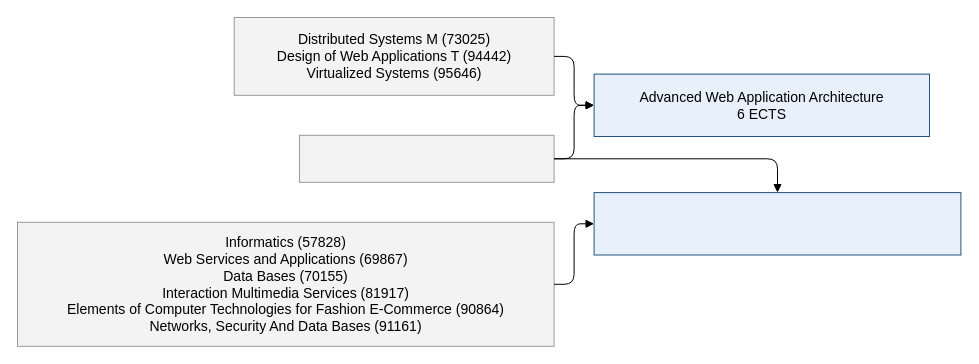
The diagram is 979 pixels wide and 364 high, and some of its shapes have lost their labels. The shapes that lost their labels are listed below. From the top down, each one's centre as x and y in pixels, then its label:
point 426,158: Web Technologies T (28659)
point 777,223: Web Application Architecture Fundamentals 3 ECTS
